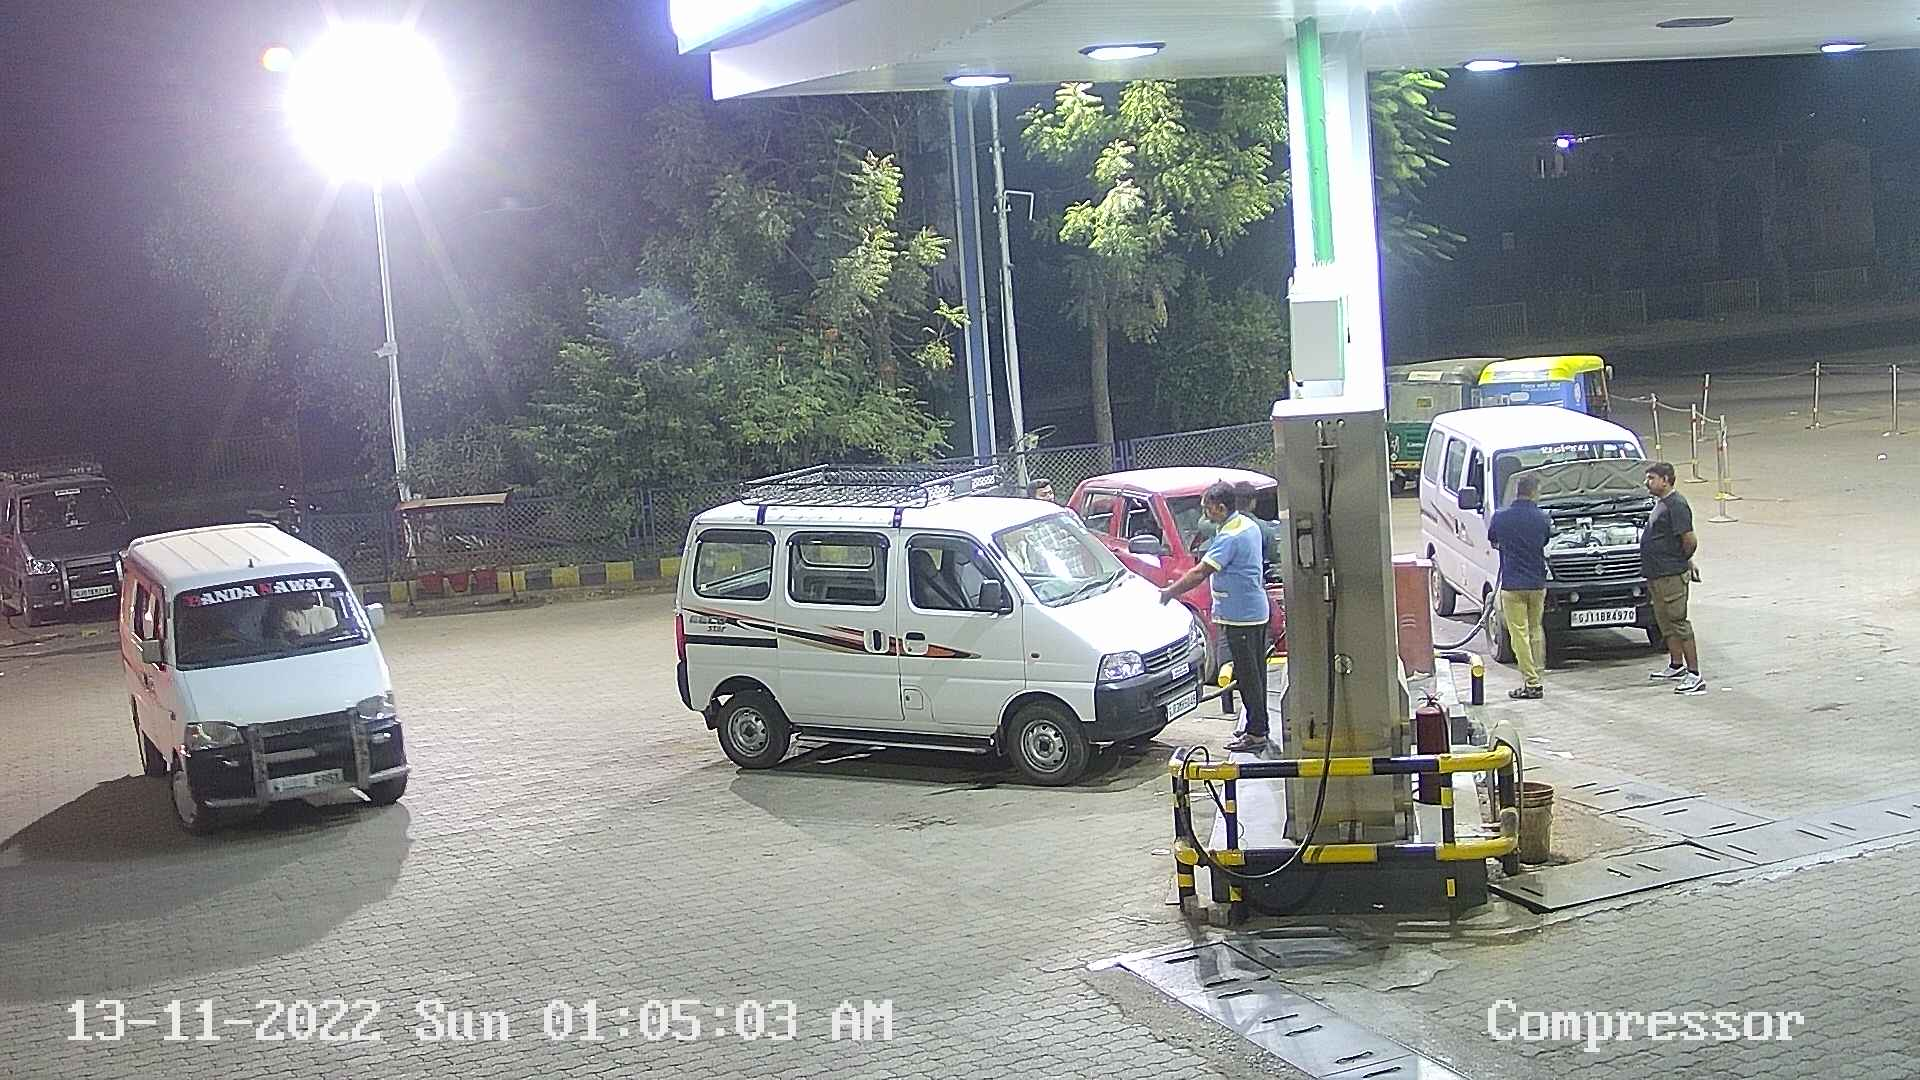Auto: (1378, 349, 1503, 504), (1469, 345, 1631, 444)
Car: (665, 454, 1226, 787), (99, 513, 415, 843), (1406, 393, 1683, 678), (1058, 458, 1295, 694), (1, 440, 146, 632)
Others: (1182, 476, 1282, 754)
